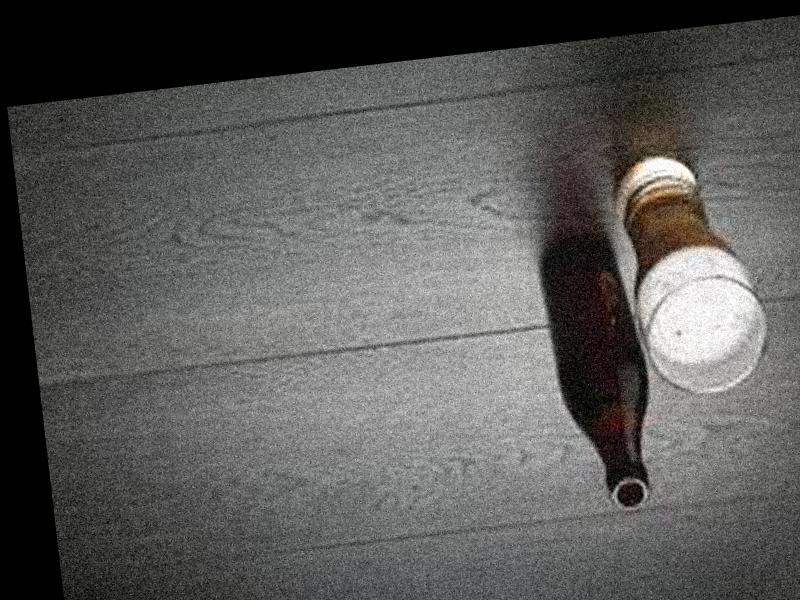Beer: (533, 222, 665, 520)
